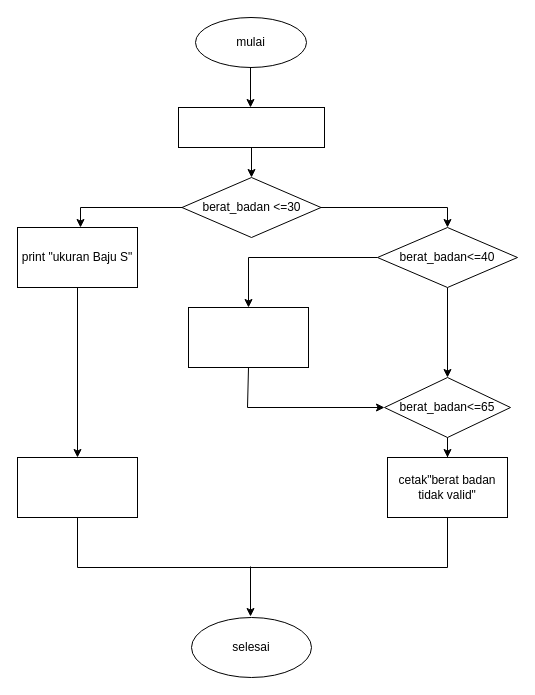
The diagram is 535 pixels wide and 695 high, and some of its shapes have lost their labels. Here are the shapes that lost their labels. From the top down, the centre of each, then its label:
pixel 251 127: input berat_badan
pixel 248 337: cetak "ukuran Baju L"
pixel 77 487: cetak "ukuran baju XL"
